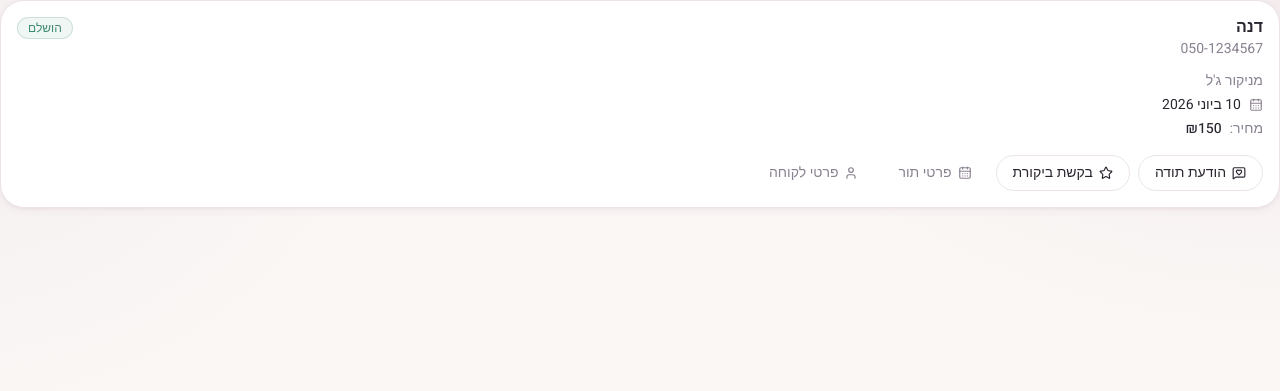
Test: ReputationBookingCard › opens the thank-you message preview (today wording)
Click the button "הודעת תודה" at (1200, 173), box 1138,155 -> 1263,191
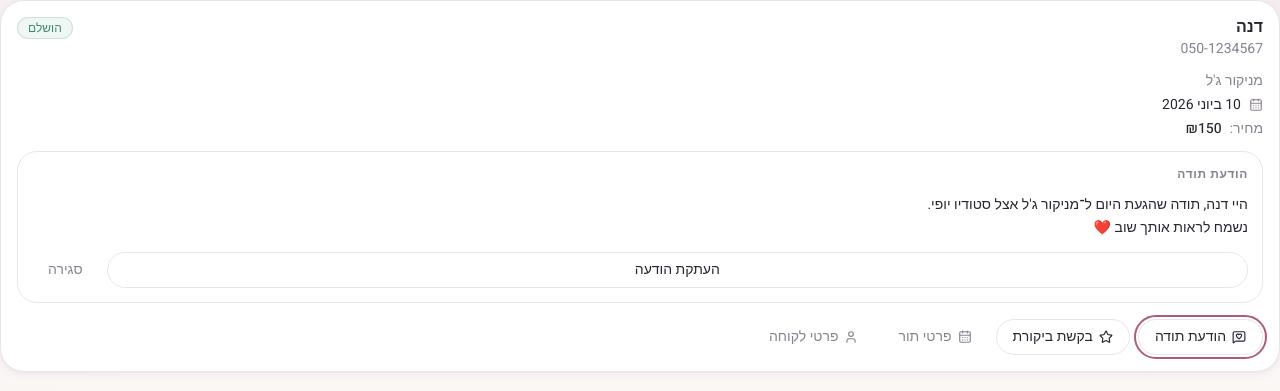
Expected: the text "תודה שהגעת היום ל־מניקור ג'ל אצל סטודיו יופי" is shown, 927,194 -> 1248,238
